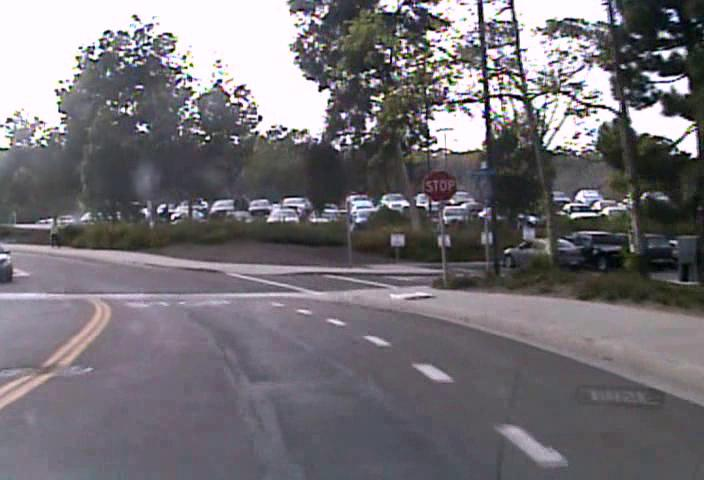stop: (421, 168, 457, 202)
